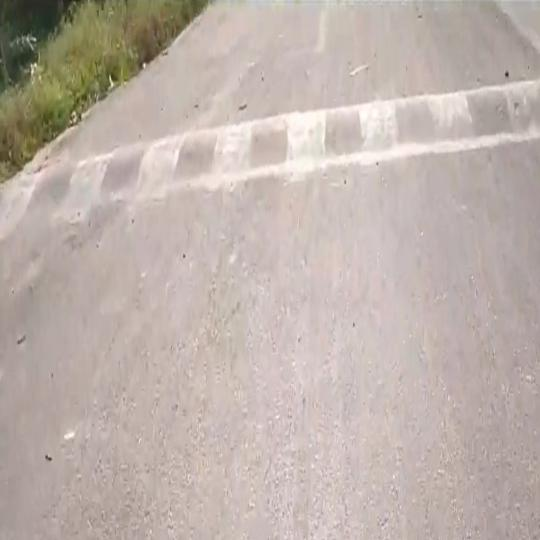Speed Bump: (1, 77, 540, 219)
